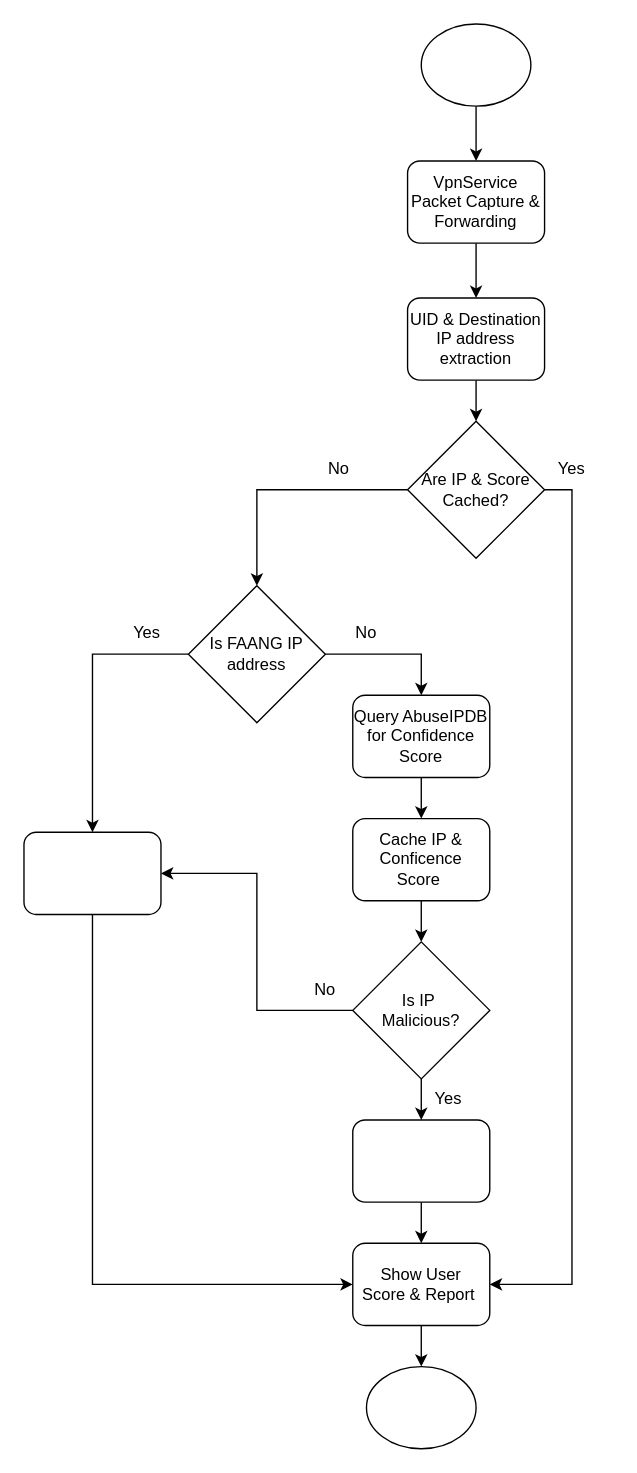
Image size: 637x1473. Some labels were removed from this diagram. Here are the shapes that lost their labels. From the top down, the centre of each, then its label:
the point at 475,64: Start
the point at 92,872: Return 0 IP Not Malicious
the point at 420,1160: Notify User
the point at 420,1407: End
